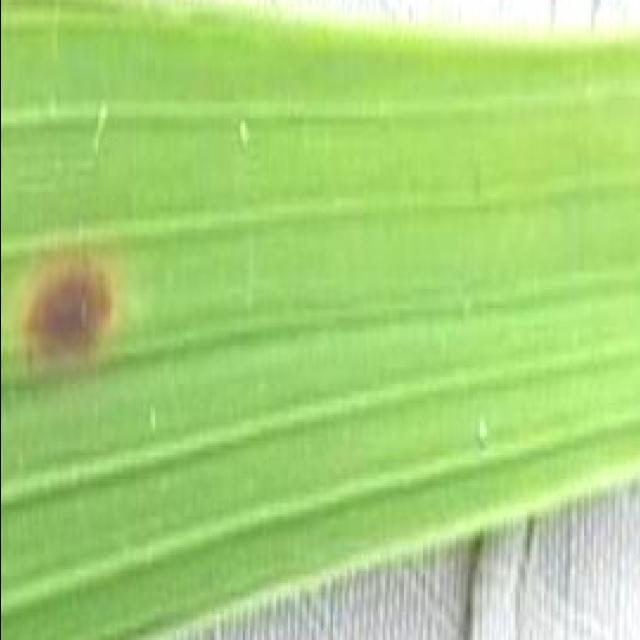Brown_Spot: (0, 237, 142, 384)
